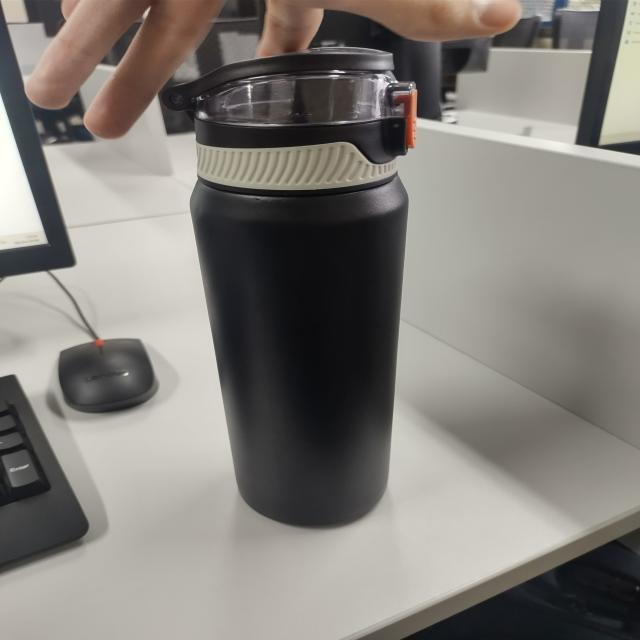Garrafa: (156, 29, 497, 547)
